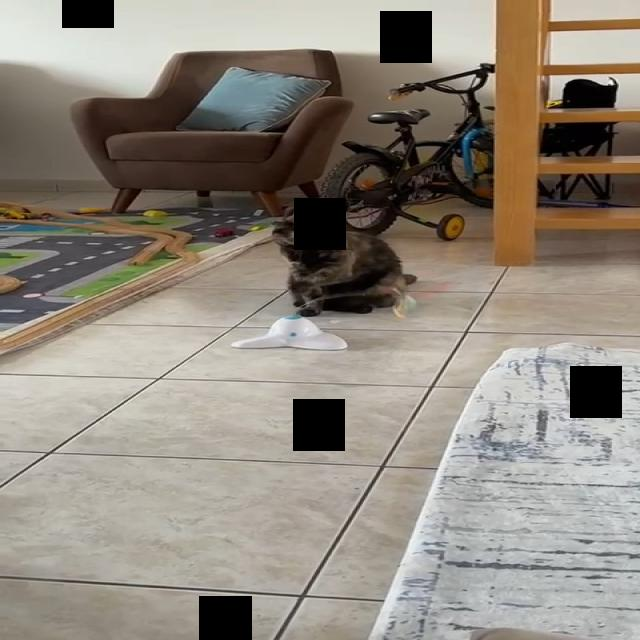authorized: (268, 211, 417, 317)
